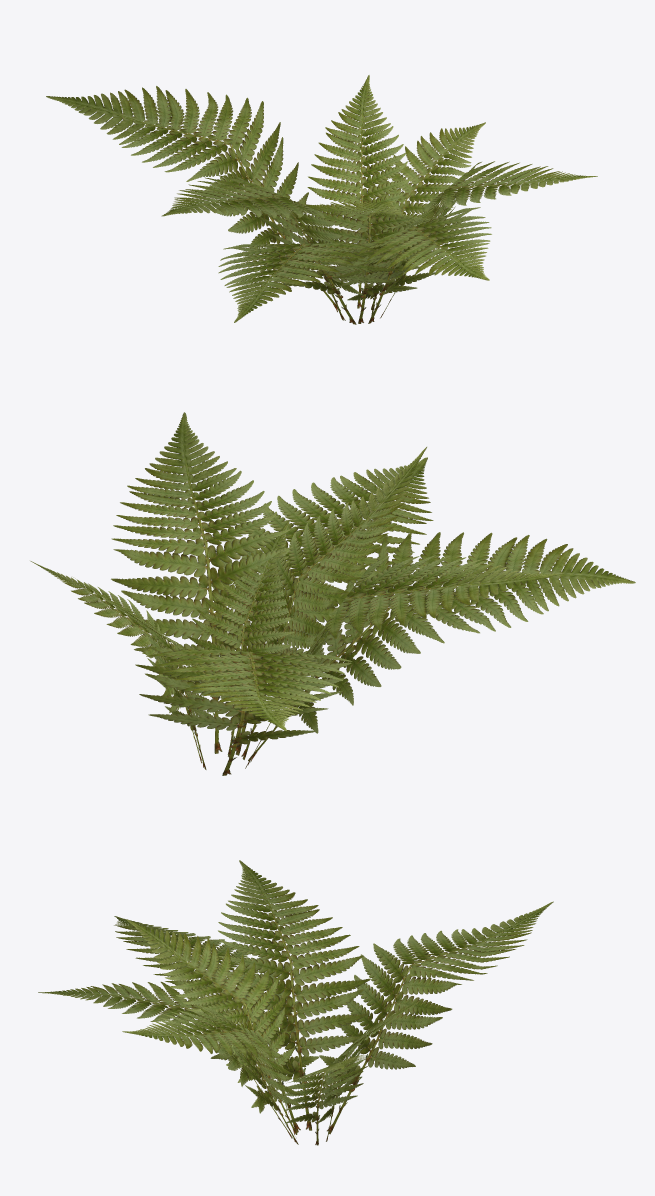
Rendered from fern_medium_a_lod2.gltf.
3 views of the same model, one above another, from view 1: azimuth 30°, elevation 25°; view 2: azimuth 150°, elevation 25°; view 3: azimuth 270°, elevation 25° (orthographic). The views are drawn at different scales.
Parts seen in each view (by area): view 1: fern_medium_a_LOD2; view 2: fern_medium_a_LOD2; view 3: fern_medium_a_LOD2.
Part boxes in pixels (x1,y1,x2,y2): fern_medium_a_LOD2: (46, 75, 597, 324); fern_medium_a_LOD2: (30, 412, 635, 775); fern_medium_a_LOD2: (38, 860, 553, 1145).
Size of the model in its own units: 1.19 by 0.5208 by 1.41.
1 material, 1 textured.
